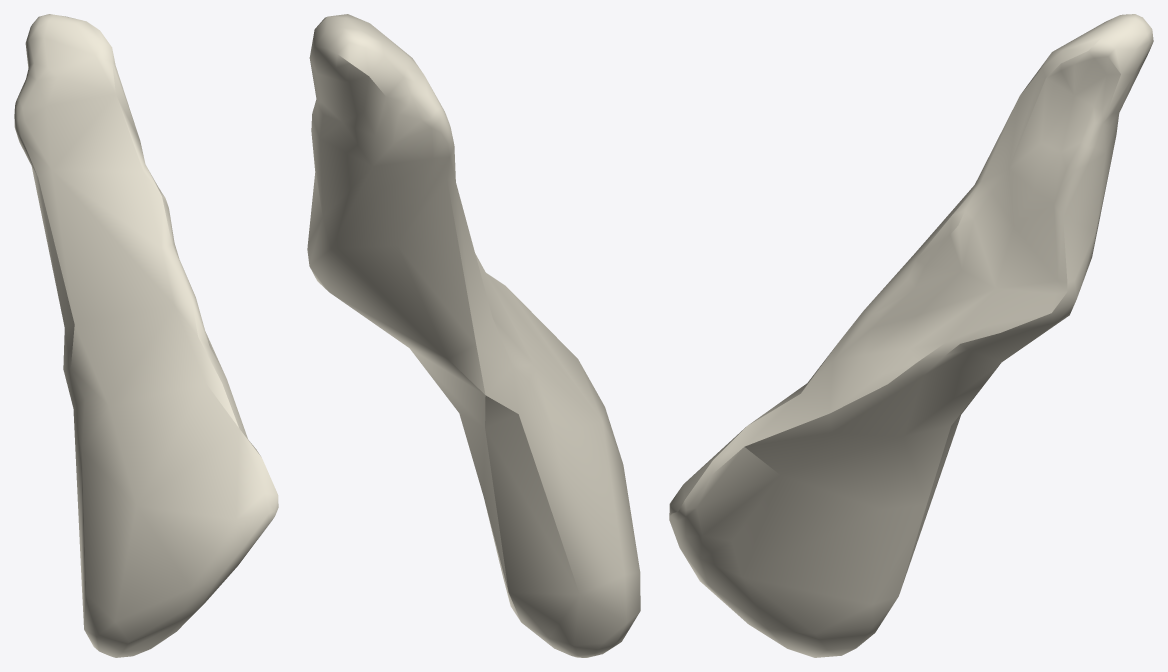
The model's file is fma53647_fj6470.glb.
The picture shows the model from 3 angles, left to right: view 1: azimuth 30°, elevation 25°; view 2: azimuth 150°, elevation 25°; view 3: azimuth 270°, elevation 25°; orthographic projection. The views are drawn at different scales.
Parts seen in each view (by area): view 1: FMA53647_FJ6470; view 2: FMA53647_FJ6470; view 3: FMA53647_FJ6470.
Boxes of the visible parts, left/top/right/bottom form: FMA53647_FJ6470: left=14, top=14, right=278, bottom=657; FMA53647_FJ6470: left=307, top=14, right=640, bottom=657; FMA53647_FJ6470: left=669, top=14, right=1153, bottom=657.
Size of the model in its own units: 0.00931 by 0.0326 by 0.0213.
